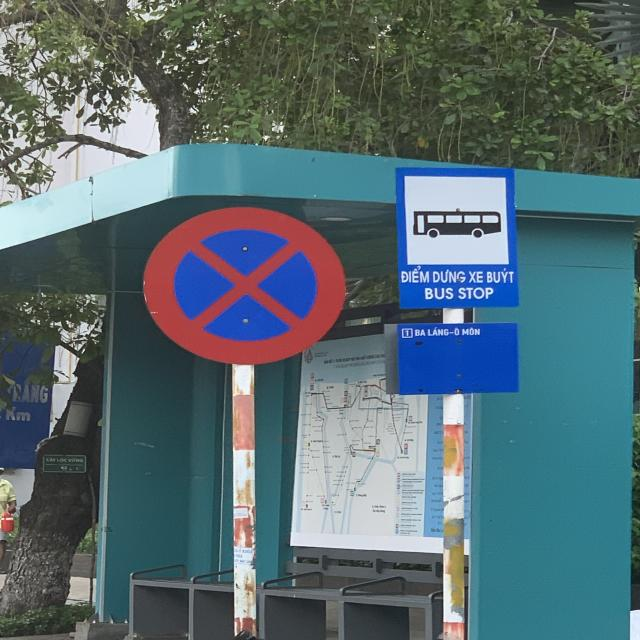Cam_Dung_Va_Dau_Xe: (146, 206, 346, 366)
